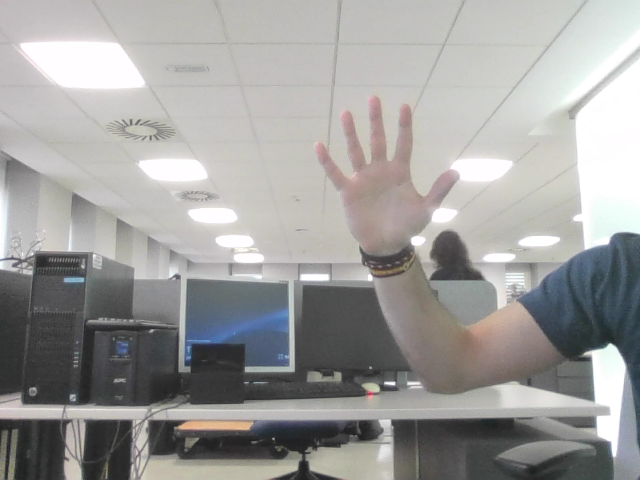Mano Abierta: (324, 108, 443, 223)
